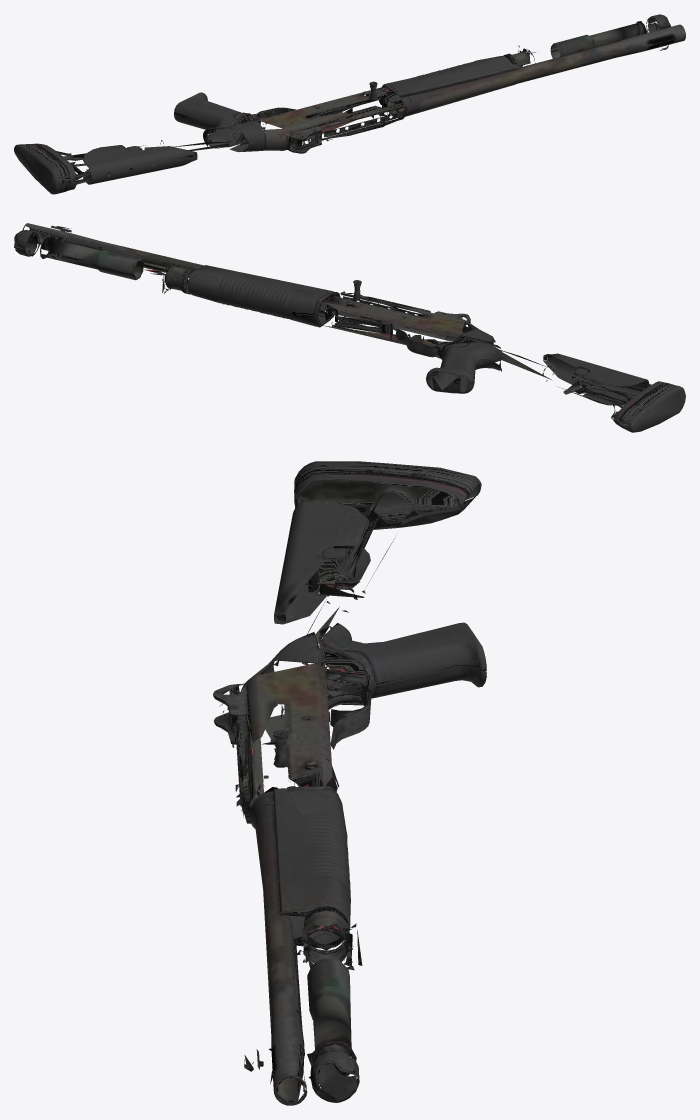
3 views of the same model, one above another, from view 1: azimuth 30°, elevation 25°; view 2: azimuth 150°, elevation 25°; view 3: azimuth 270°, elevation 25° (orthographic). The views are drawn at different scales.
Parts seen in each view (by area): view 1: w_xm1014; view 2: w_xm1014; view 3: w_xm1014.
Part boxes in pixels (x1,y1,x2,y2): w_xm1014: (14, 14, 685, 194); w_xm1014: (14, 223, 685, 432); w_xm1014: (213, 461, 486, 1105).
Size of the model in its own units: 1.23 by 0.0785 by 0.2324.
1 material, 1 textured.
